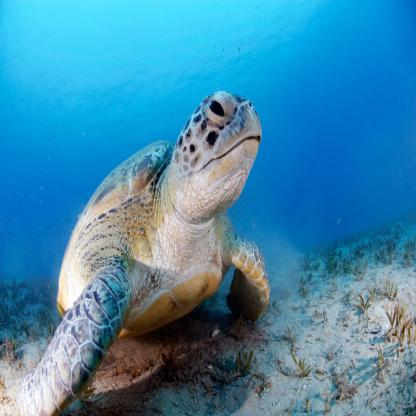turtle: (166, 85, 264, 222)
